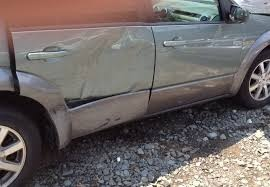Dent: (22, 27, 156, 125)
